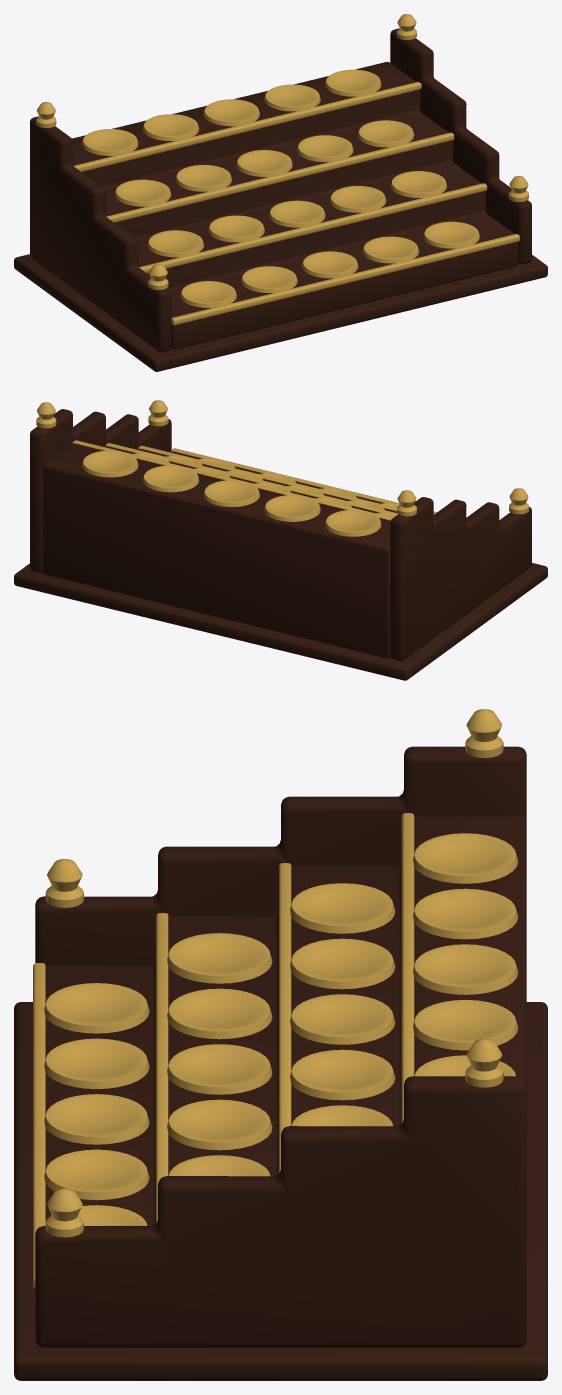
The model's file is bingo-rack.glb.
The picture shows the model from 3 angles, top to bottom: view 1: azimuth 30°, elevation 25°; view 2: azimuth 150°, elevation 25°; view 3: azimuth 270°, elevation 25°; orthographic projection. The views are drawn at different scales.
Visible parts, largest first — view 1: BallRack; view 2: BallRack; view 3: BallRack.
Part boxes in pixels (x1,y1,x2,y2): BallRack: (14, 14, 547, 371); BallRack: (14, 400, 547, 680); BallRack: (14, 709, 547, 1380).
Bounding box in the file's own units: 0.402 × 0.171 × 0.252.
